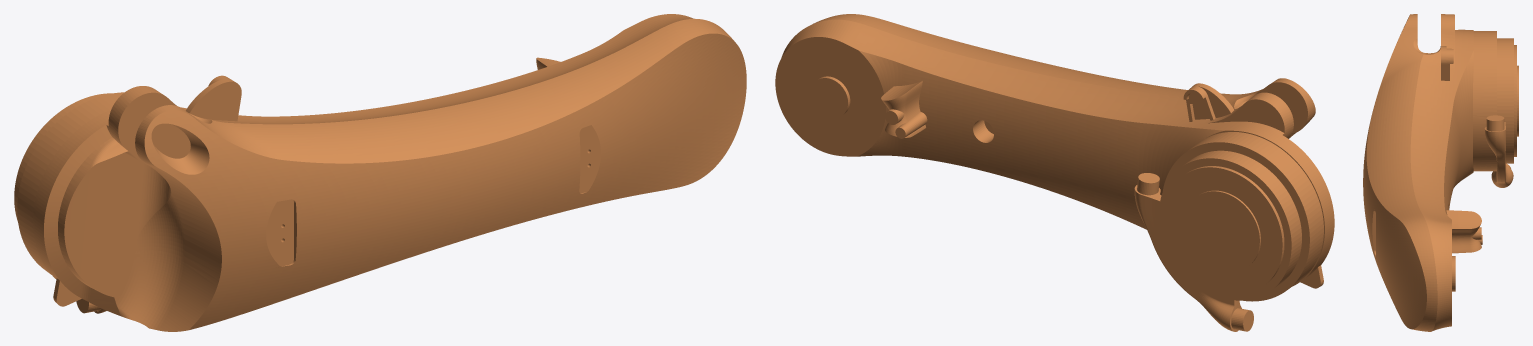
3 views of the same model, side by side, from view 1: azimuth 30°, elevation 25°; view 2: azimuth 150°, elevation 25°; view 3: azimuth 270°, elevation 25° (orthographic). The views are drawn at different scales.
Parts seen in each view (by area): view 1: Link_2; view 2: Link_2; view 3: Link_2.
Part boxes in pixels (<box>): Link_2: <box>14,14,746,331</box>; Link_2: <box>775,14,1334,331</box>; Link_2: <box>1363,14,1518,331</box>.
Size of the model in its own units: 1.51 by 0.4384 by 0.5325.
